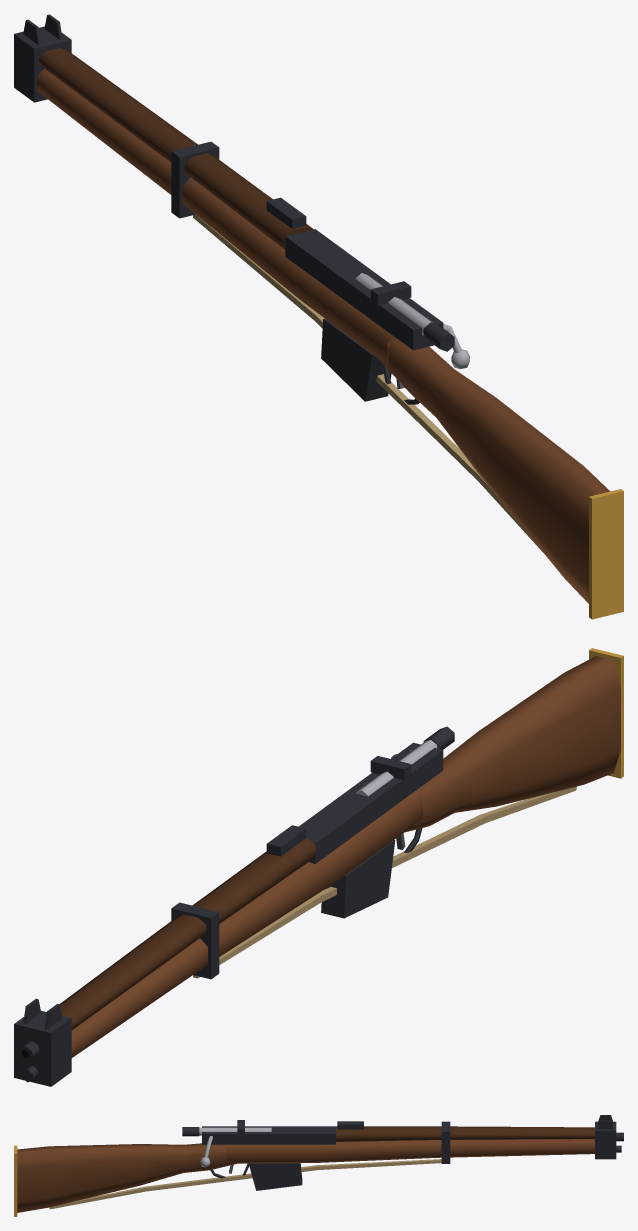
File: rifle.glb
3 views of the same model, one above another, from view 1: azimuth 30°, elevation 25°; view 2: azimuth 150°, elevation 25°; view 3: azimuth 270°, elevation 25° (orthographic). The views are drawn at different scales.
Parts seen in each view (by area): view 1: Body, Bolt; view 2: Body, Bolt; view 3: Body, Bolt.
Part boxes in pixels (x1=…): Body: x1=14, y1=14, x2=623, y2=619; Bolt: x1=355, y1=273, x2=469, y2=369; Body: x1=14, y1=648, x2=623, y2=1086; Bolt: x1=355, y1=726, x2=454, y2=796; Body: x1=14, y1=1115, x2=623, y2=1216; Bolt: x1=182, y1=1127, x2=271, y2=1167.
Bounding box in the file's own units: 0.073 × 0.195 × 1.14.
